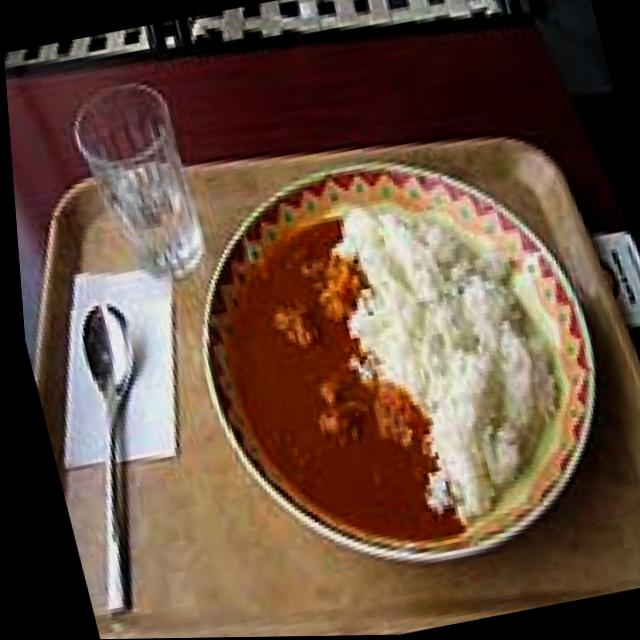牛肉菜式: (148, 119, 630, 597)
